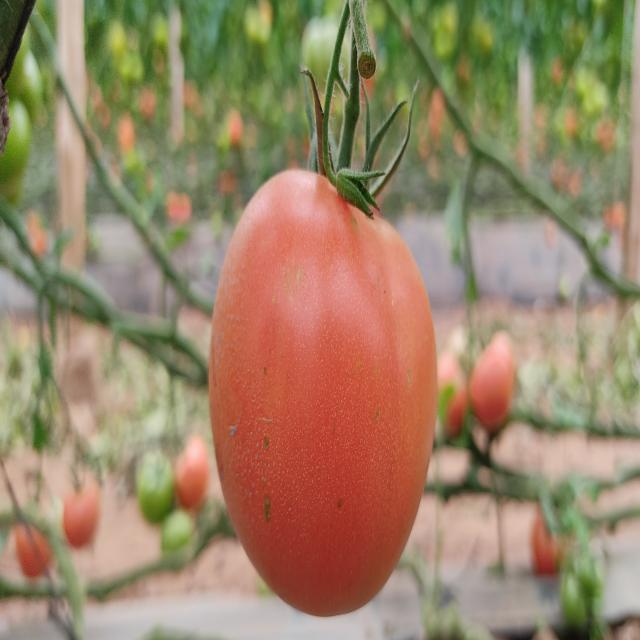Ripe Tomato: (211, 168, 446, 620), (466, 326, 520, 428), (442, 336, 472, 446), (57, 477, 100, 548), (172, 430, 211, 505), (6, 514, 49, 572), (530, 503, 564, 574)
Unripe Tomato: (286, 8, 366, 97), (0, 102, 33, 184), (140, 439, 171, 517), (562, 562, 598, 624), (12, 65, 52, 117), (162, 519, 202, 565), (0, 168, 25, 214)
